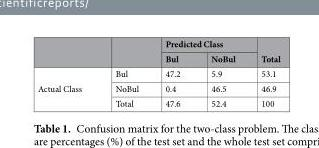table: (36, 37, 279, 108)
table column: (36, 37, 97, 108), (97, 37, 151, 108), (195, 37, 247, 108), (151, 37, 195, 108), (247, 37, 279, 108)
table column header: (36, 37, 279, 65)
table row: (36, 50, 279, 65), (36, 65, 279, 80), (36, 80, 279, 95), (36, 37, 279, 50), (36, 95, 279, 108)
table spanning cell: (36, 65, 97, 108), (151, 37, 247, 50), (247, 37, 279, 65)
